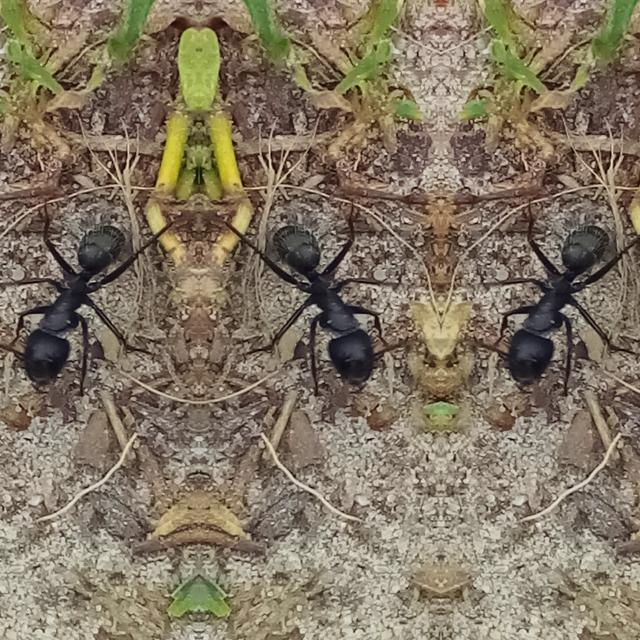Camponotus: (238, 186, 424, 420), (456, 185, 640, 418), (0, 185, 158, 418)
